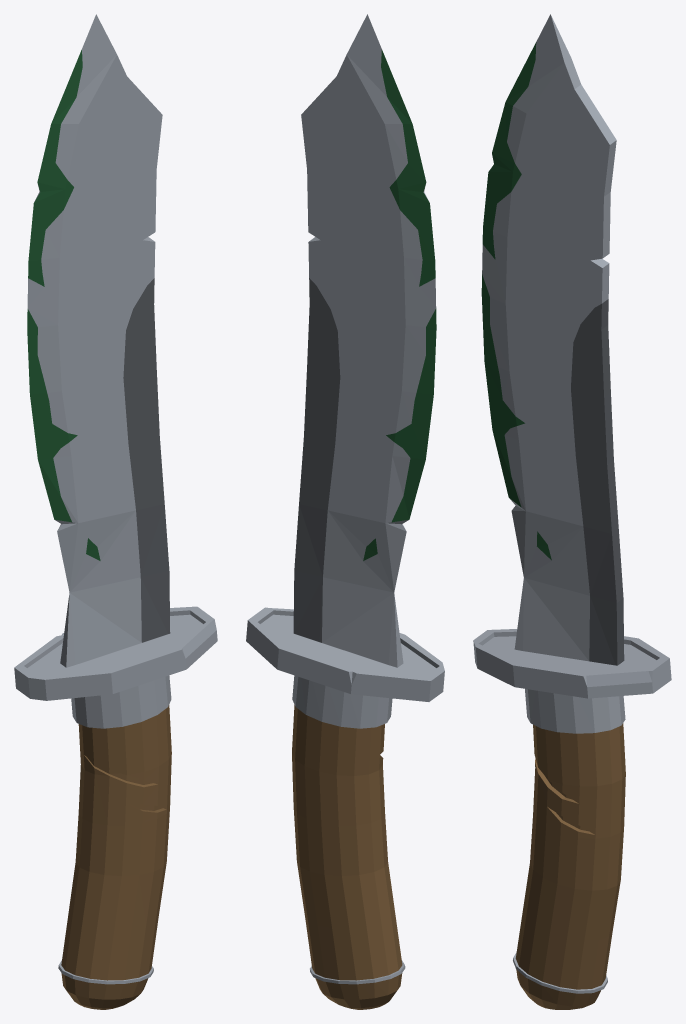
File: Poisoned steel dagger.fbx
The picture shows the model from 3 angles, left to right: view 1: azimuth 30°, elevation 25°; view 2: azimuth 150°, elevation 25°; view 3: azimuth 330°, elevation 25°; orthographic projection.
Parts seen in each view (by area): view 1: Dagger 1; view 2: Dagger 1; view 3: Dagger 1.
Part boxes in pixels (box(x1,y1,x2,y2)): Dagger 1: box(14, 14, 217, 1009); Dagger 1: box(246, 14, 444, 1009); Dagger 1: box(473, 14, 671, 1009).
Bounding box in the file's own units: 0.2218 × 1.13 × 0.1093.
